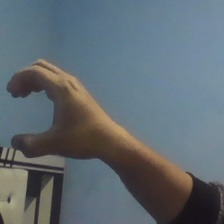C: (4, 57, 104, 161)
